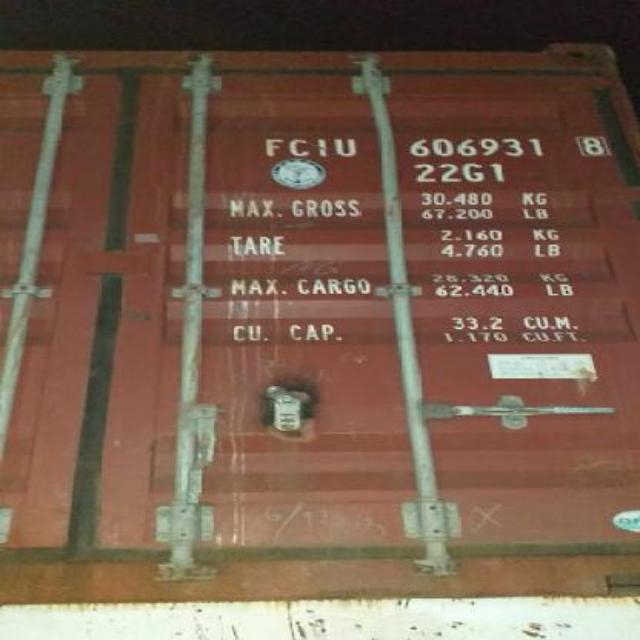0: (432, 137, 456, 157)
1: (526, 136, 546, 156)
3: (500, 136, 526, 156)
6: (404, 137, 432, 157), (456, 138, 478, 156)
8: (578, 135, 608, 155)
9: (478, 137, 499, 155)
C: (286, 138, 312, 158)
F: (262, 138, 286, 158)
I: (312, 136, 332, 160)
U: (332, 137, 358, 155)
